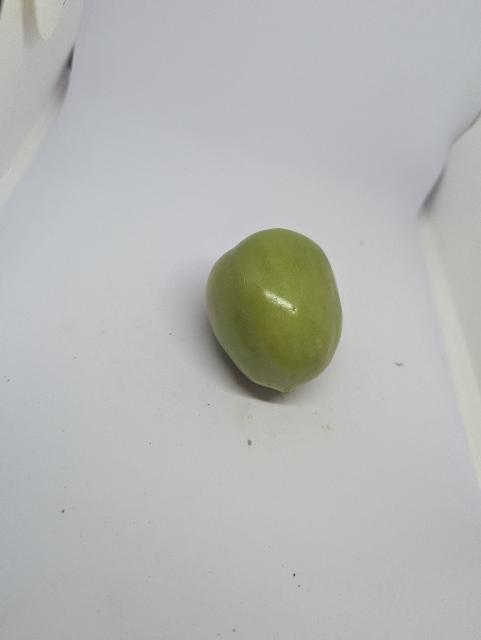green: (202, 226, 347, 395)
